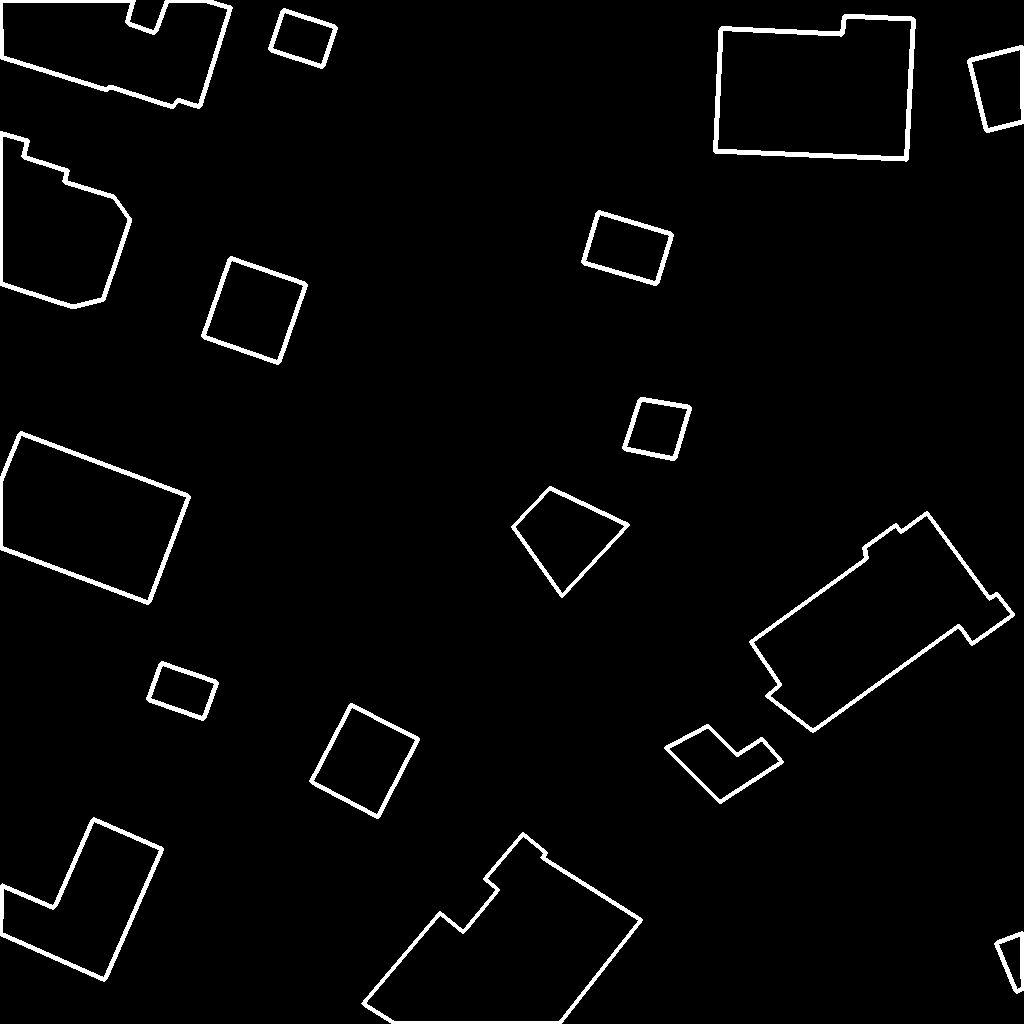building: (751, 513, 1014, 732), (363, 834, 642, 1024), (0, 433, 190, 604), (715, 16, 915, 160), (0, 819, 163, 981), (0, 0, 232, 108), (0, 133, 131, 308), (513, 488, 629, 597), (311, 705, 419, 818), (203, 258, 307, 364), (666, 726, 783, 803), (583, 212, 673, 285), (969, 47, 1024, 132), (624, 399, 691, 460), (148, 663, 218, 720), (270, 10, 337, 68), (996, 933, 1024, 993)
